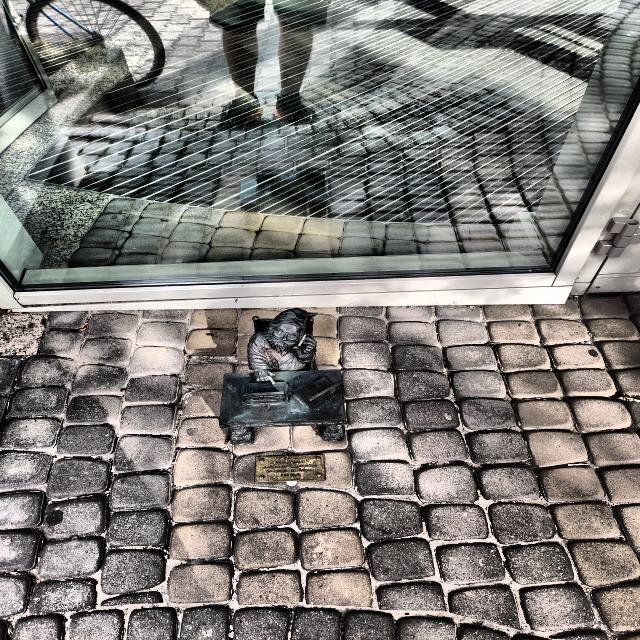WIZek: (220, 309, 345, 445)
